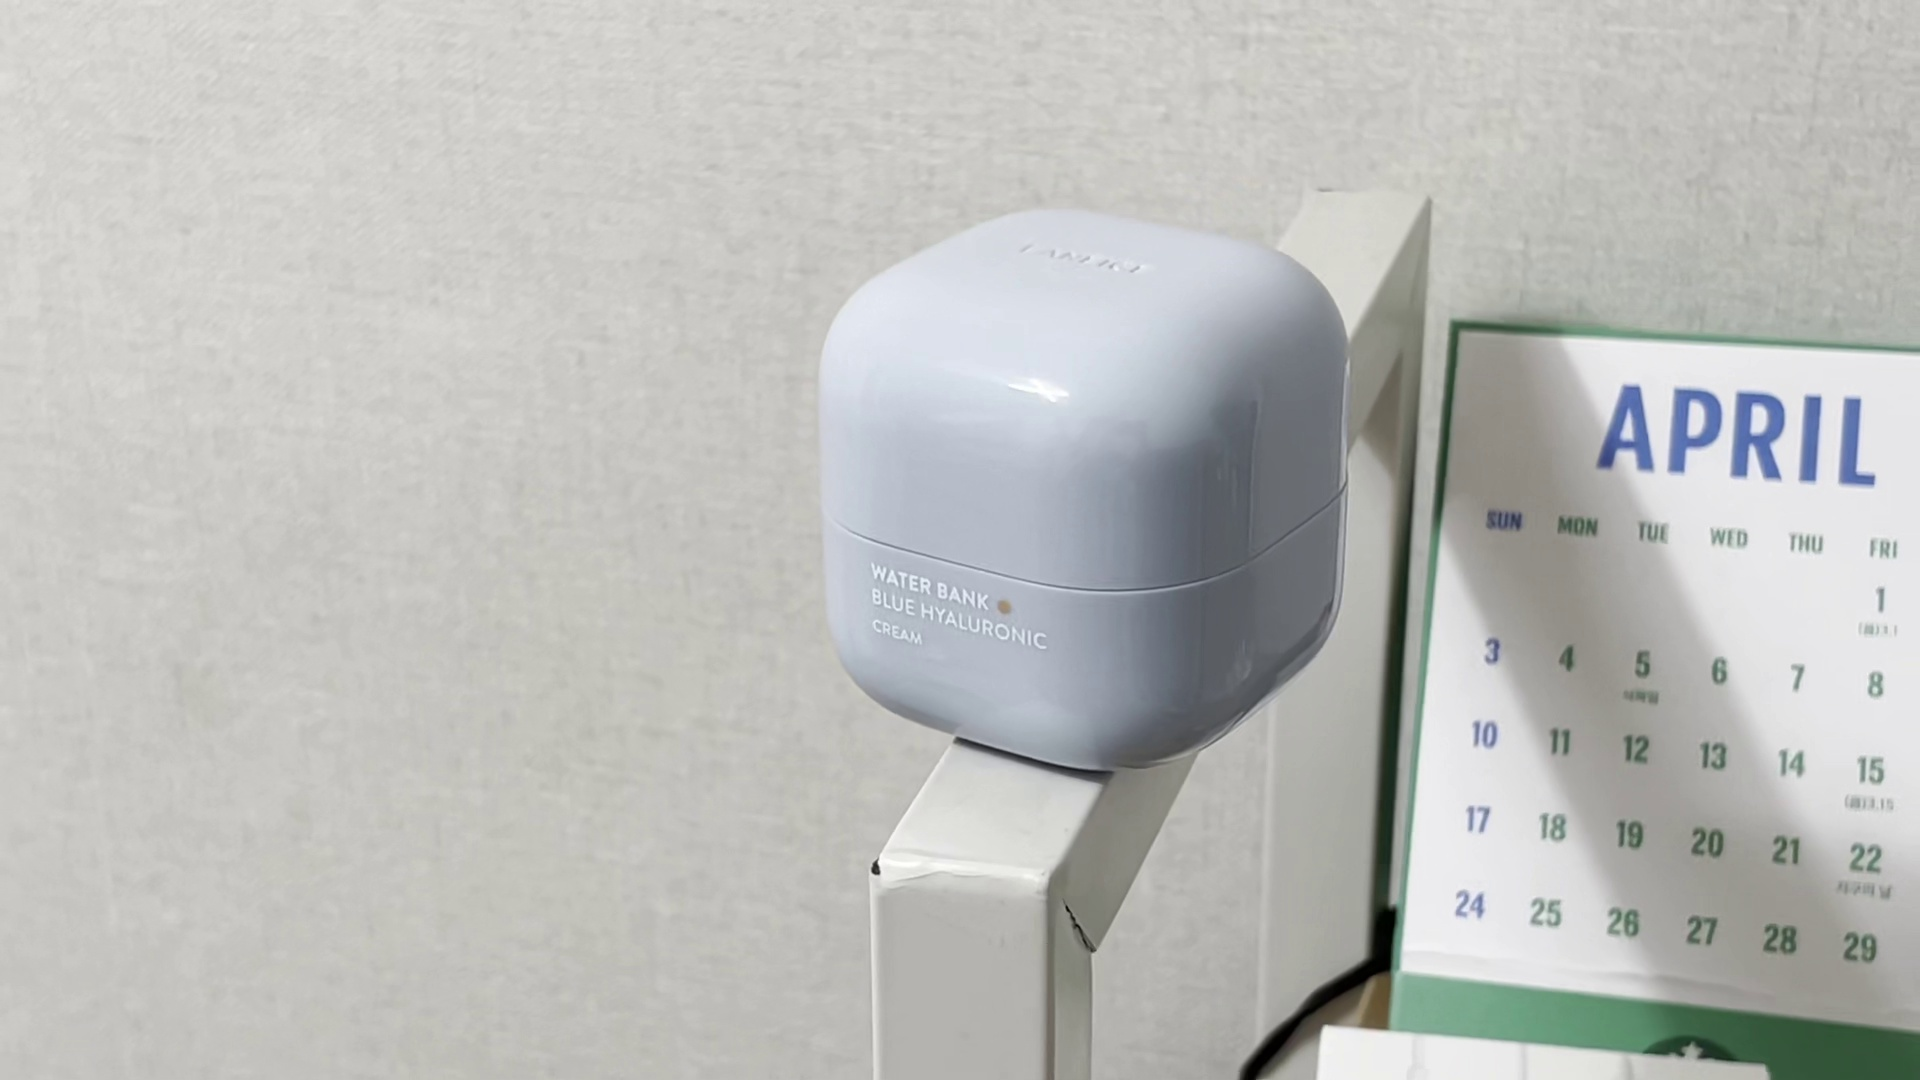cream: (814, 204, 1348, 785)
